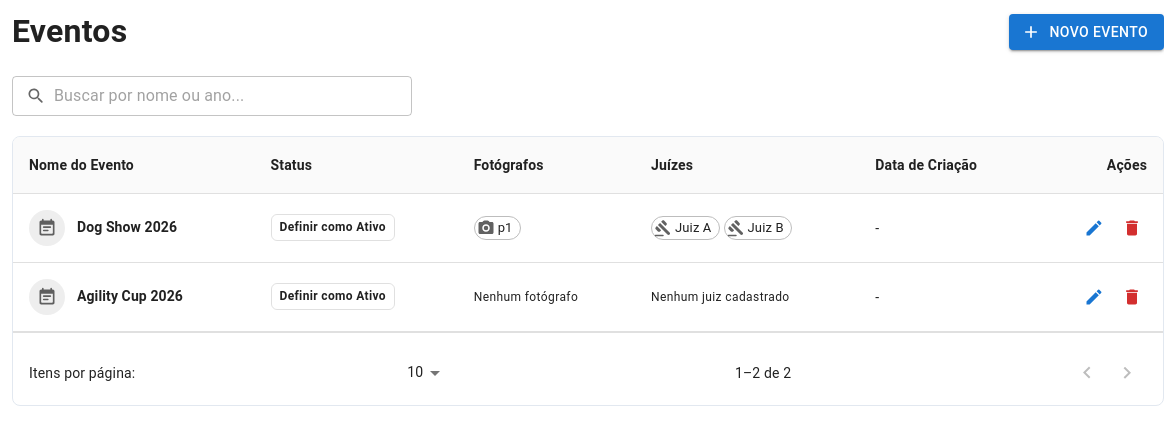
Test: SeasonsPage › filters seasons using search input and clears filter
This screenshot has width=1176, height=423.
Check: the heading "Dog Show 2026" is shown, box [77,216,177,238]
Check: the heading "Agility Cup 2026" is shown, box [77,286,183,308]
Step 1. Type "Agility" into the field with placeholder "Buscar por nome ou ano..." → (233, 96), box [54,76,412,116]
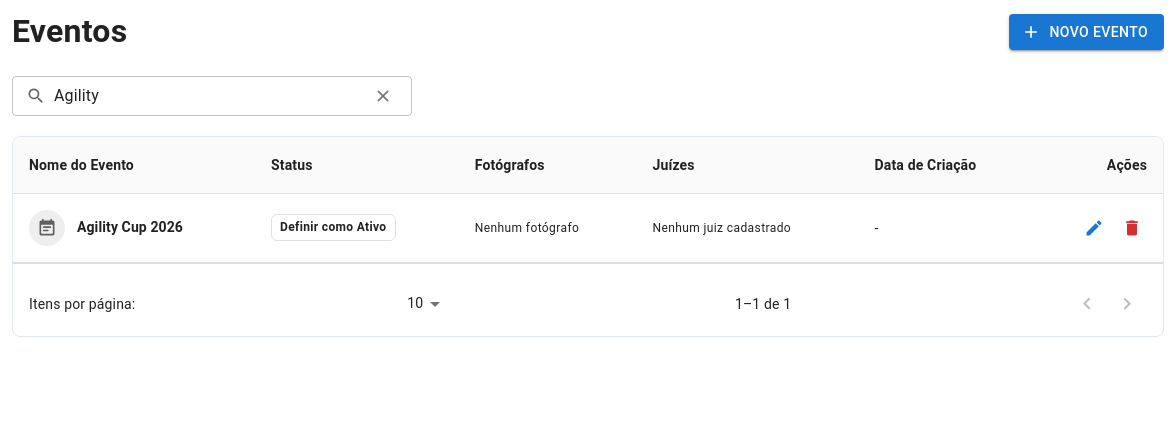
Check: the heading "Agility Cup 2026" is shown, box [77,216,183,238]
Check: the heading "Dog Show 2026" is gone
Step 2. Click the button named "Cancelar" → (383, 96), box [368,80,398,110]
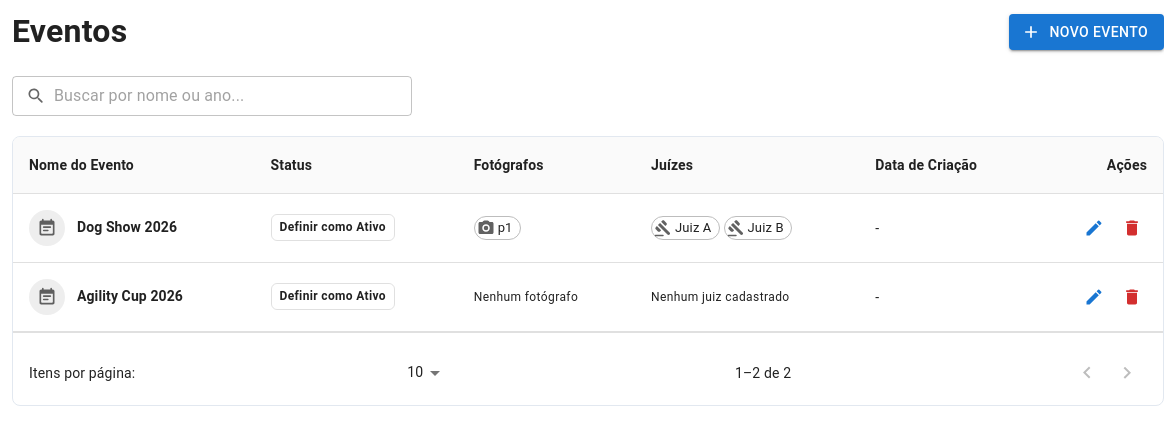
Check: the heading "Agility Cup 2026" is shown, box [77,286,183,308]
Check: the heading "Dog Show 2026" is shown, box [77,216,177,238]
